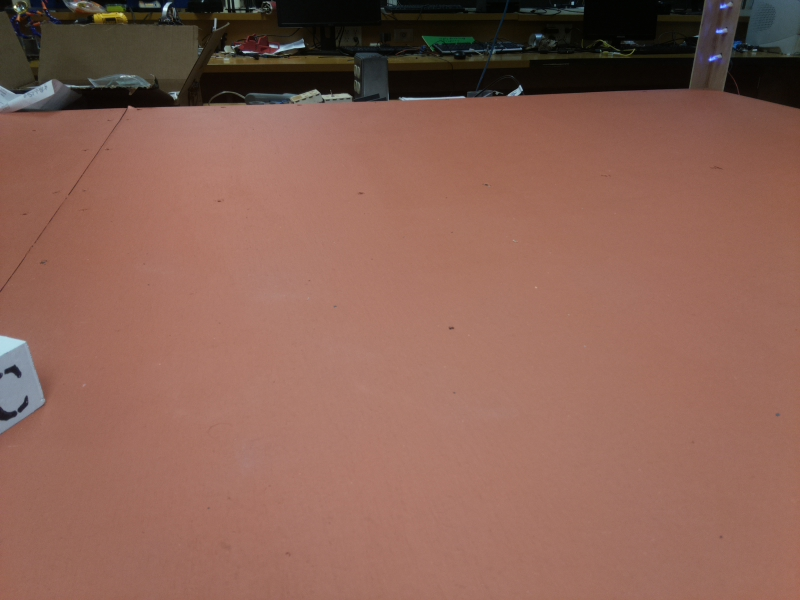blockC: (1, 332, 46, 444)
corner: (685, 1, 746, 92)
